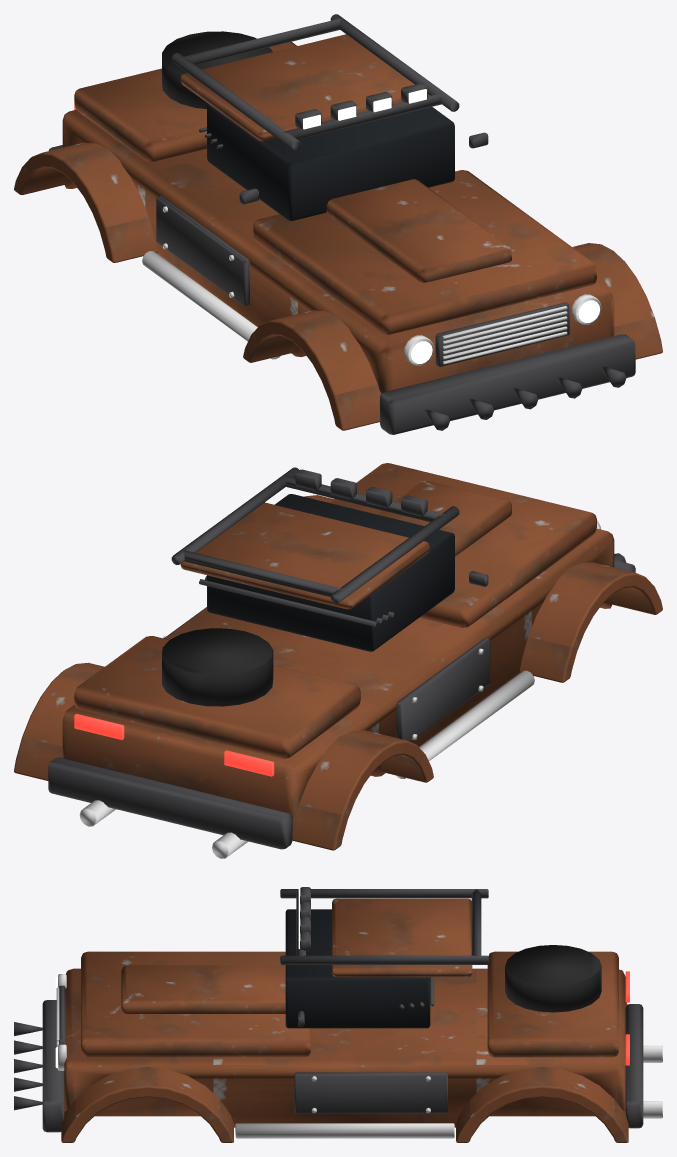
File: interceptor.glb
3 views of the same model, one above another, from view 1: azimuth 30°, elevation 25°; view 2: azimuth 150°, elevation 25°; view 3: azimuth 270°, elevation 25° (orthographic). The views are drawn at different scales.
Parts seen in each view (by area): view 1: InterceptorBody; view 2: InterceptorBody; view 3: InterceptorBody.
Part boxes in pixels (left/top/right/bottom): InterceptorBody: left=14, top=14, right=662, bottom=434; InterceptorBody: left=14, top=463, right=662, bottom=858; InterceptorBody: left=14, top=887, right=662, bottom=1142.
Size of the model in its own units: 1.46 by 0.89 by 2.96.
Materials: 7 (1 with a texture image).
